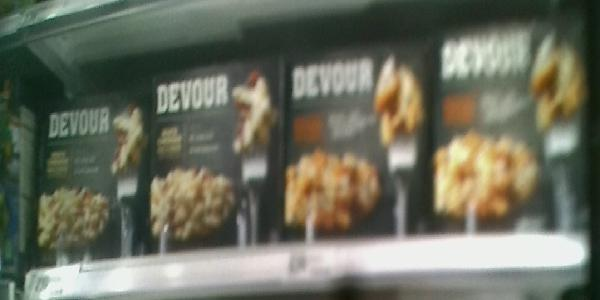pizza1: (435, 22, 589, 233), (290, 39, 425, 231), (146, 55, 282, 244), (41, 106, 130, 256)
